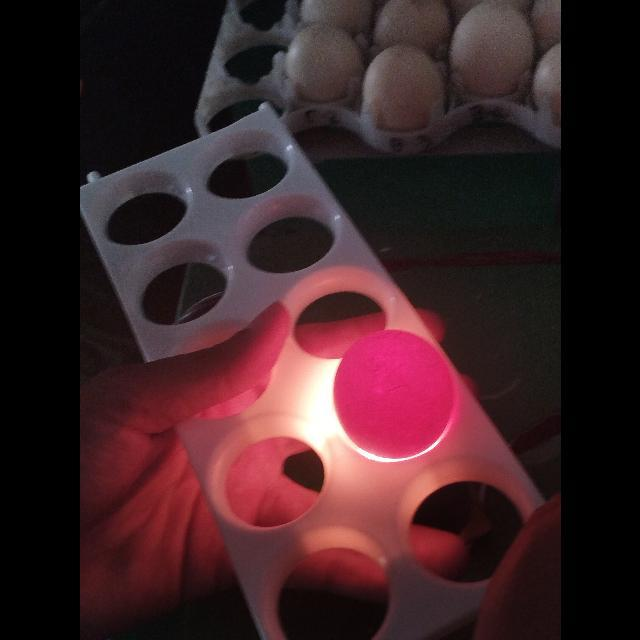Infertile: (332, 325, 458, 461)
